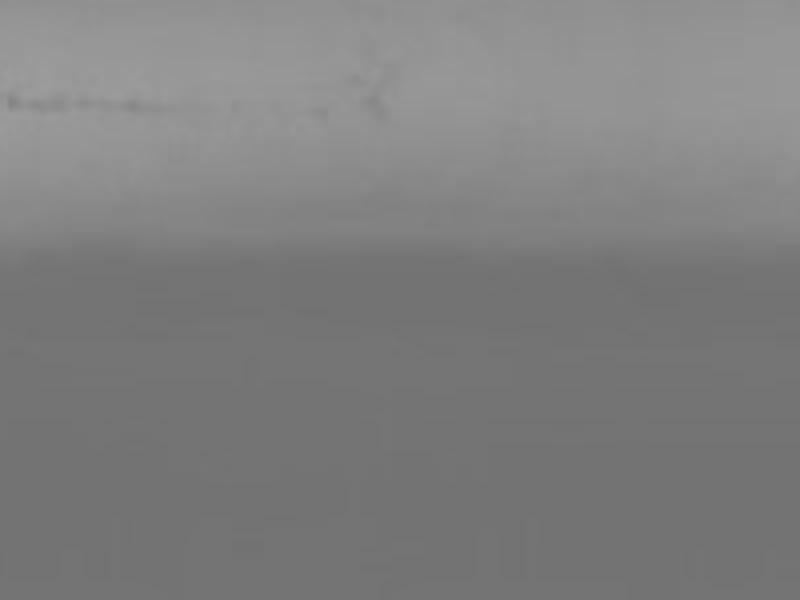defect: (361, 89, 391, 117), (5, 91, 22, 110)
